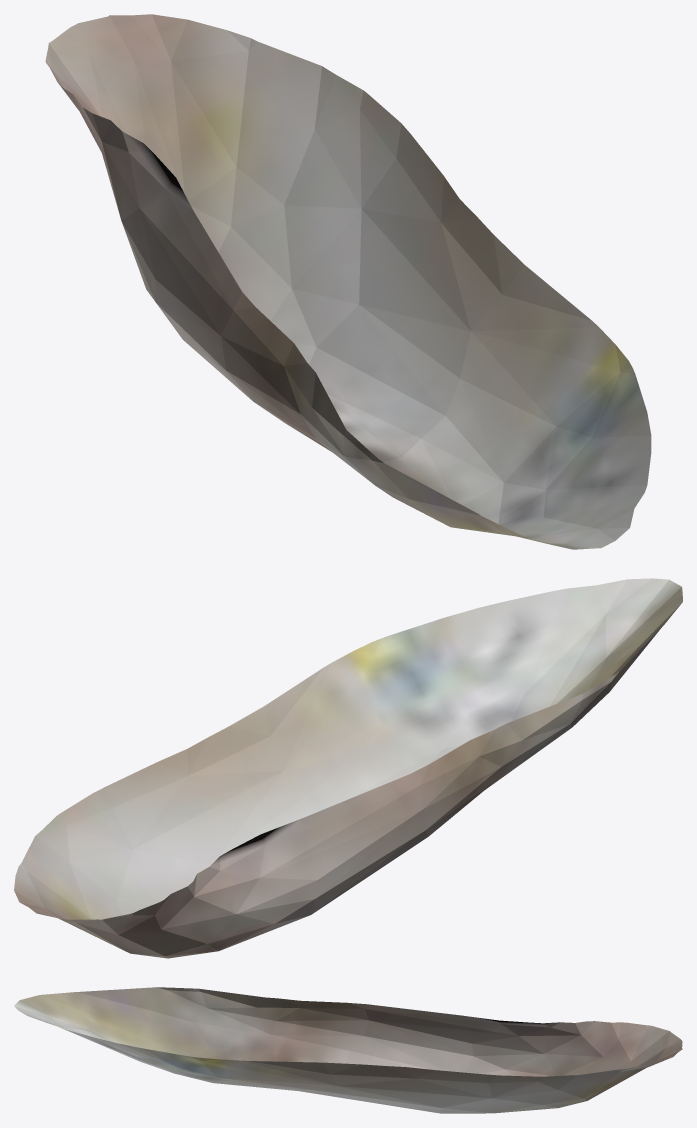
3 views of the same model, one above another, from view 1: azimuth 30°, elevation 25°; view 2: azimuth 150°, elevation 25°; view 3: azimuth 270°, elevation 25° (orthographic). The views are drawn at different scales.
Parts seen in each view (by area): view 1: 091_W_Aya_100K_01; view 2: 091_W_Aya_100K_01; view 3: 091_W_Aya_100K_01.
Part boxes in pixels (bbox=[...]): 091_W_Aya_100K_01: bbox=[45, 14, 651, 549]; 091_W_Aya_100K_01: bbox=[14, 578, 682, 958]; 091_W_Aya_100K_01: bbox=[14, 987, 682, 1113].
Bounding box in the file's own units: 21.08 × 8.63 × 66.61.
Materials: 1 (1 with a texture image).
